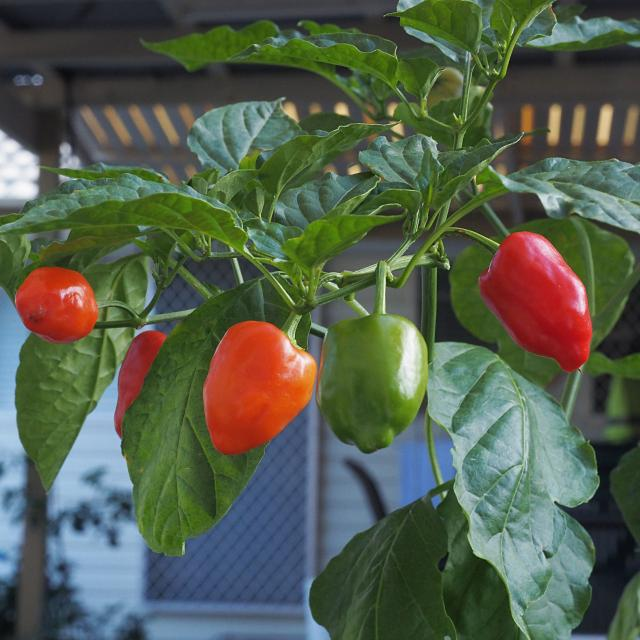Chilli Pepper: (461, 213, 611, 389), (198, 270, 317, 454), (328, 280, 446, 461), (18, 228, 96, 389)
